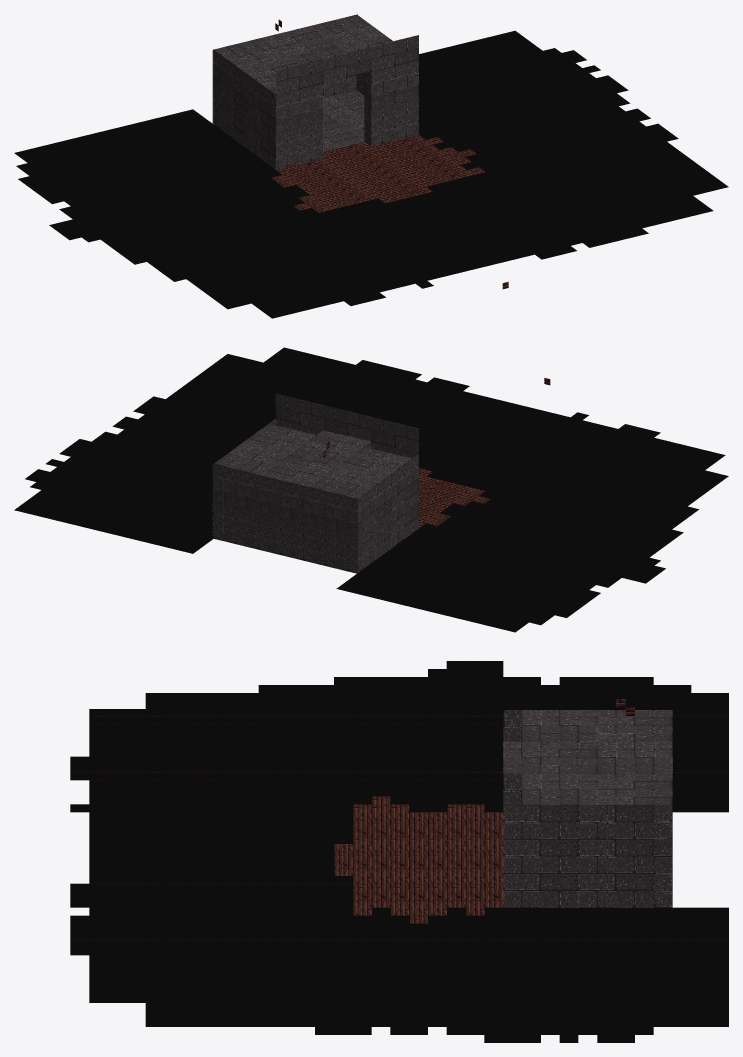
File: TreasuryBurnt.obj
3 renders of one model, top to bottom at view 1: azimuth 30°, elevation 25°; view 2: azimuth 150°, elevation 25°; view 3: azimuth 270°, elevation 25°, orthographic. The views are drawn at different scales.
Parts seen in each view (by area): view 1: Default; view 2: Default; view 3: Default.
Part boxes in pixels (x1,y1,x2,y2): Default: [14, 14, 728, 318]; Default: [14, 347, 728, 632]; Default: [70, 661, 728, 1042].
Size of the model in its own units: 15.36 by 2.72 by 12.16.
2 materials, 2 textured.
